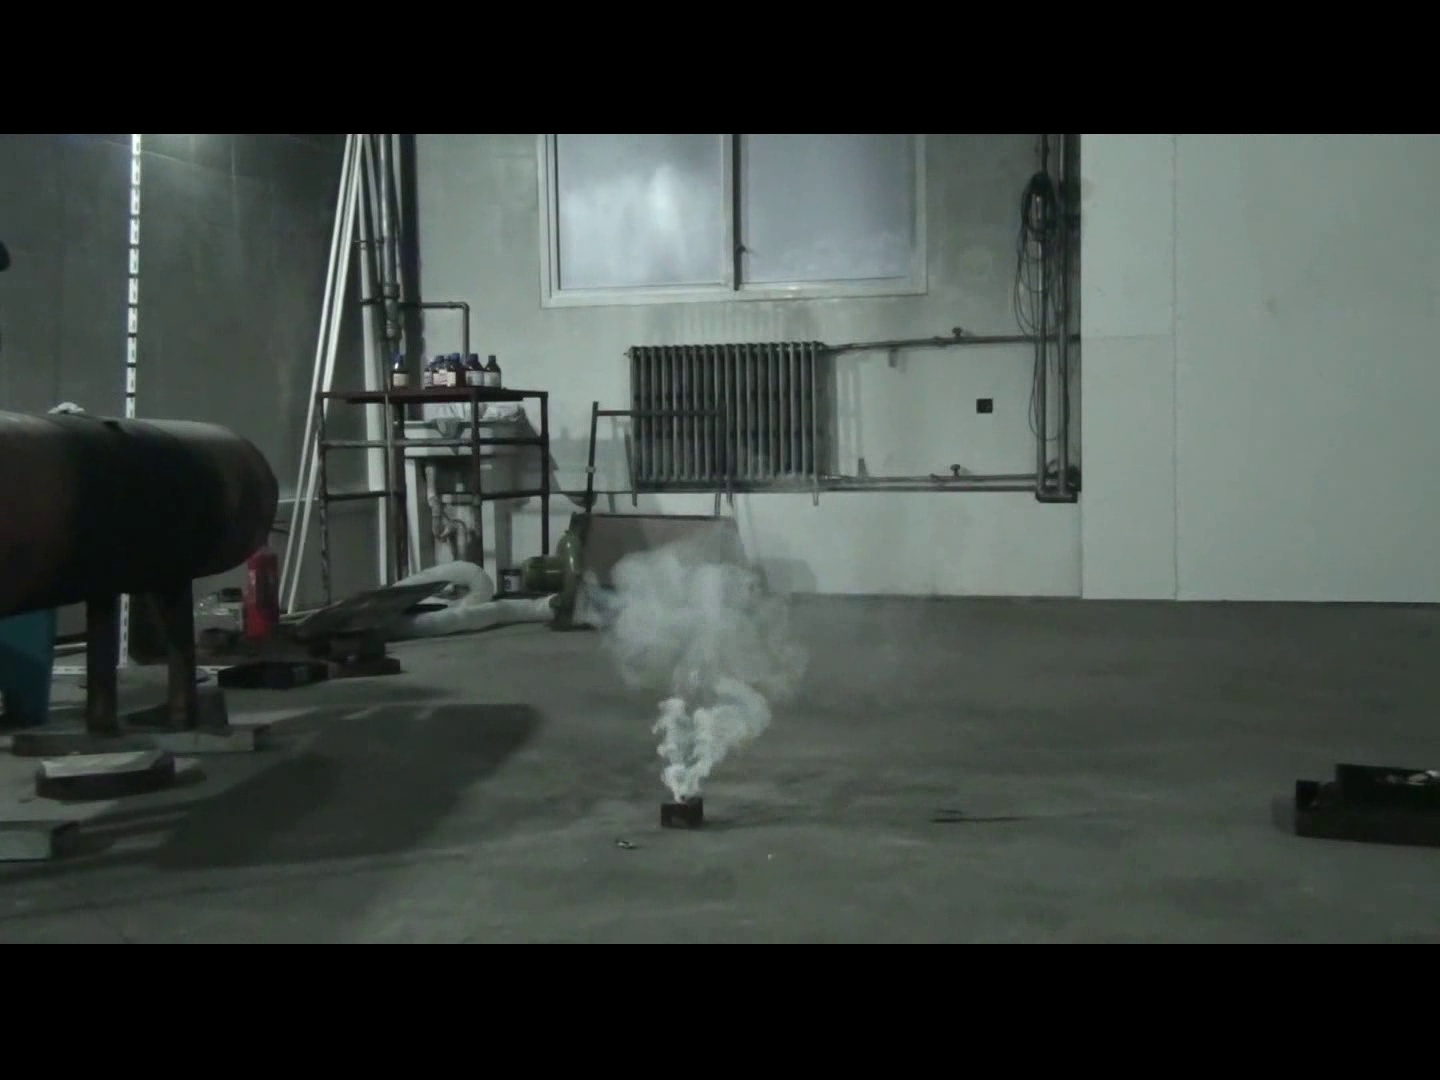smoke: (574, 514, 832, 799)
